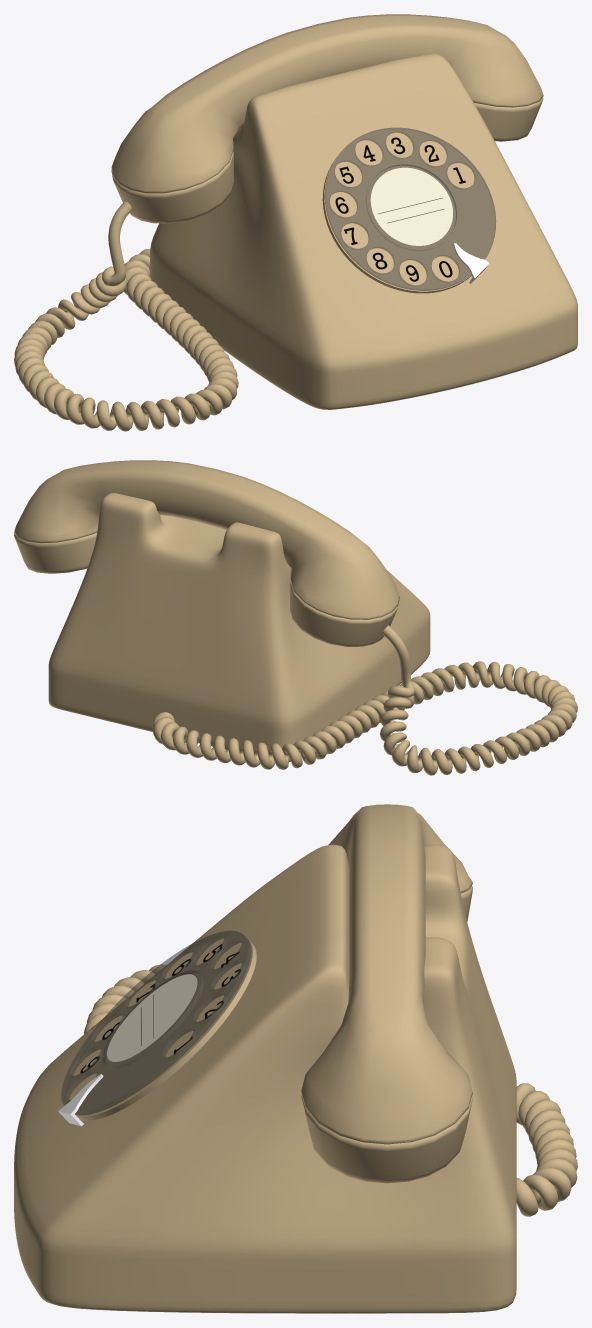
File: telephone.glb
The picture shows the model from 3 angles, top to bottom: view 1: azimuth 30°, elevation 25°; view 2: azimuth 150°, elevation 25°; view 3: azimuth 270°, elevation 25°; orthographic projection. The views are drawn at different scales.
Parts seen in each view (by area): view 1: Object_7, Object_5, Object_6, Object_3, Object_4, Object_2; view 2: Object_7, Object_6; view 3: Object_7, Object_5, Object_3, Object_6, Object_4, Object_2.
Part boxes in pixels (bbox=[...]): Object_7: bbox=[111, 14, 577, 409]; Object_5: bbox=[322, 130, 494, 293]; Object_6: bbox=[14, 201, 238, 431]; Object_3: bbox=[324, 127, 496, 290]; Object_4: bbox=[335, 137, 465, 281]; Object_2: bbox=[453, 243, 489, 283]; Object_7: bbox=[14, 460, 430, 761]; Object_6: bbox=[152, 625, 577, 775]; Object_7: bbox=[14, 804, 516, 1313]; Object_5: bbox=[65, 935, 256, 1120]; Object_3: bbox=[61, 930, 251, 1115]; Object_6: bbox=[84, 964, 577, 1216]; Object_4: bbox=[80, 944, 240, 1073]; Object_2: bbox=[58, 1074, 103, 1126].
Size of the model in its own units: 3.06 by 1.39 by 1.97.
4 materials, 1 textured.
